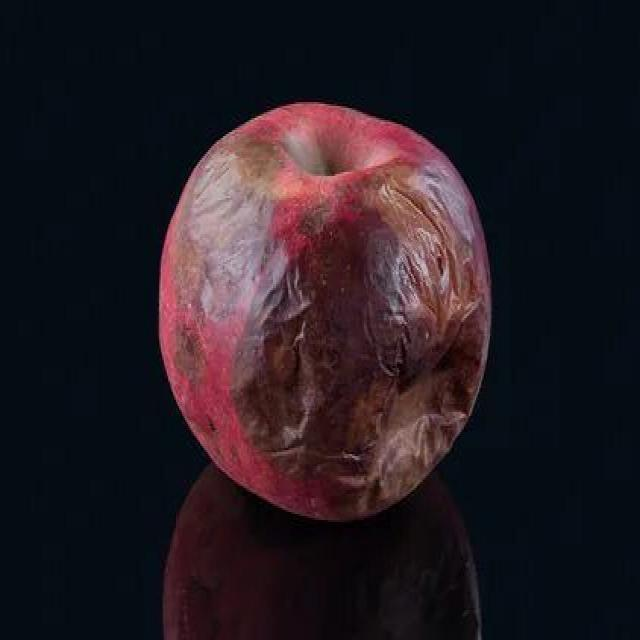Rotten: (155, 91, 485, 516)
